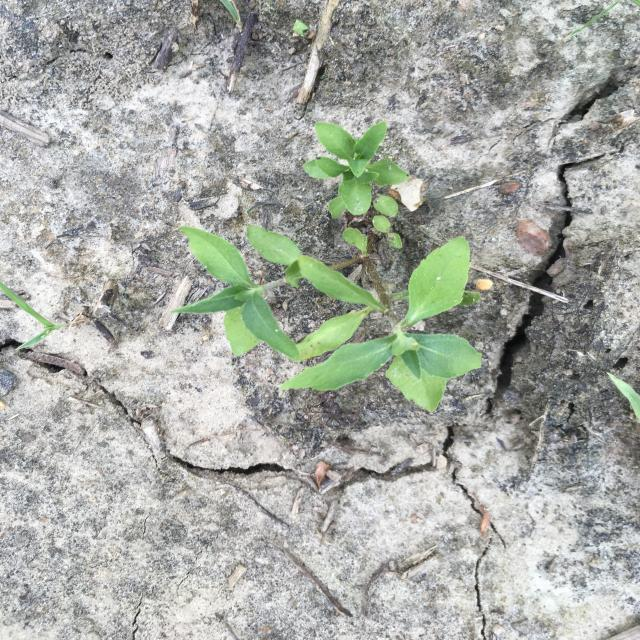Eclipta: (167, 215, 482, 414), (302, 120, 411, 220)
